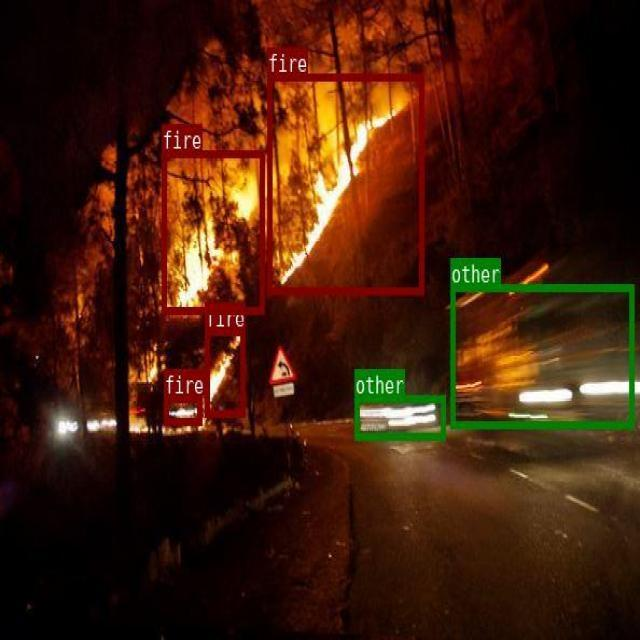fire: (266, 73, 423, 294), (161, 149, 263, 313), (205, 327, 245, 416), (164, 394, 201, 424)
